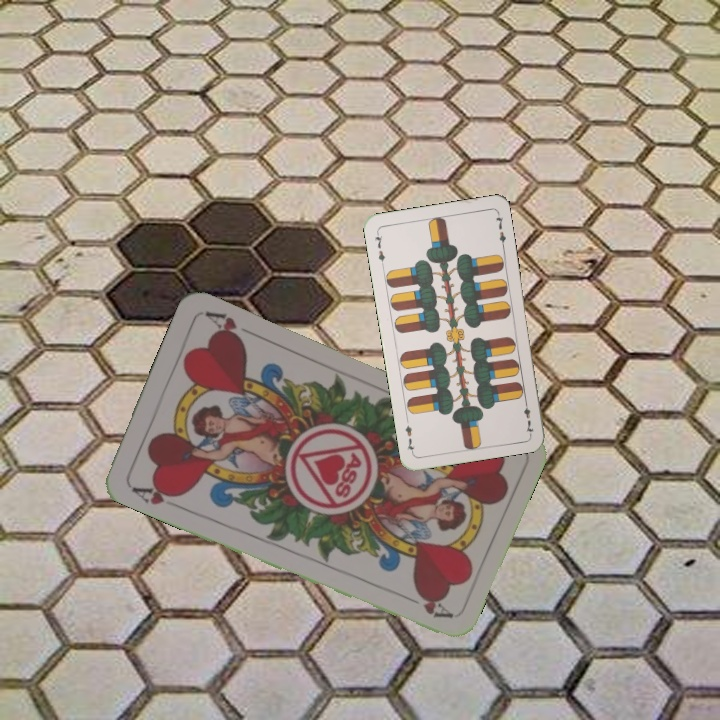E7: (371, 228, 388, 269), (520, 396, 536, 436)
HA: (127, 479, 184, 511)
